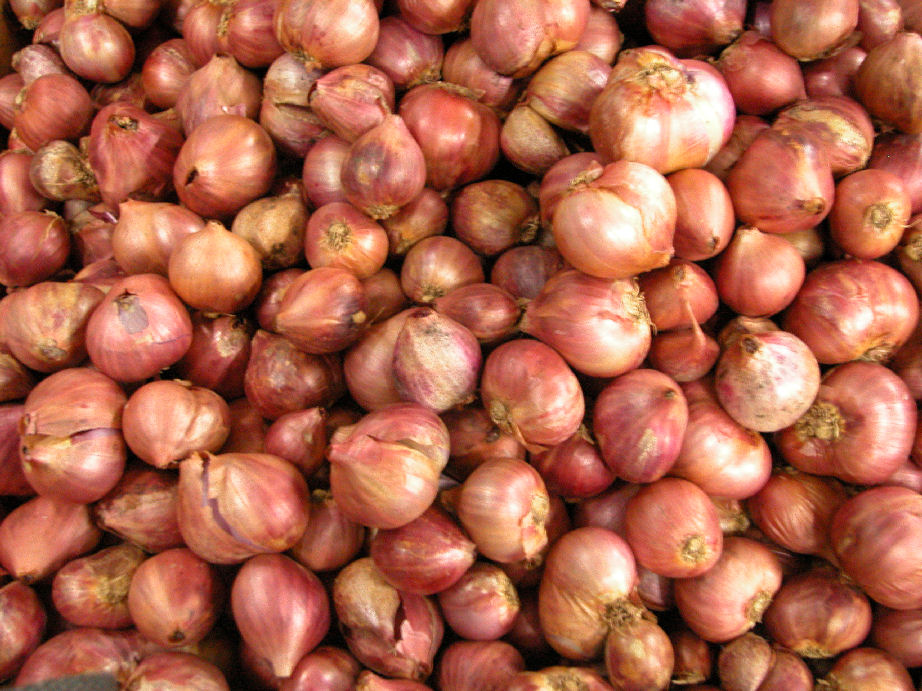onion: (0, 0, 920, 687), (316, 401, 451, 530), (551, 159, 676, 278), (828, 480, 920, 614), (722, 315, 816, 434)
